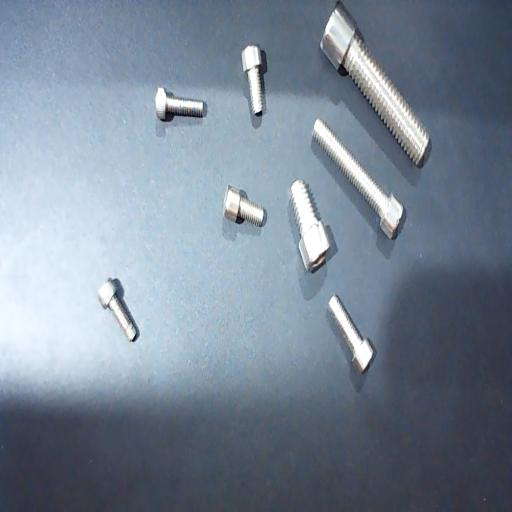screw: (320, 1, 430, 167), (312, 118, 403, 240), (288, 179, 331, 274), (328, 294, 373, 375), (97, 276, 138, 342), (222, 184, 264, 227), (155, 87, 204, 122), (242, 44, 264, 115)
